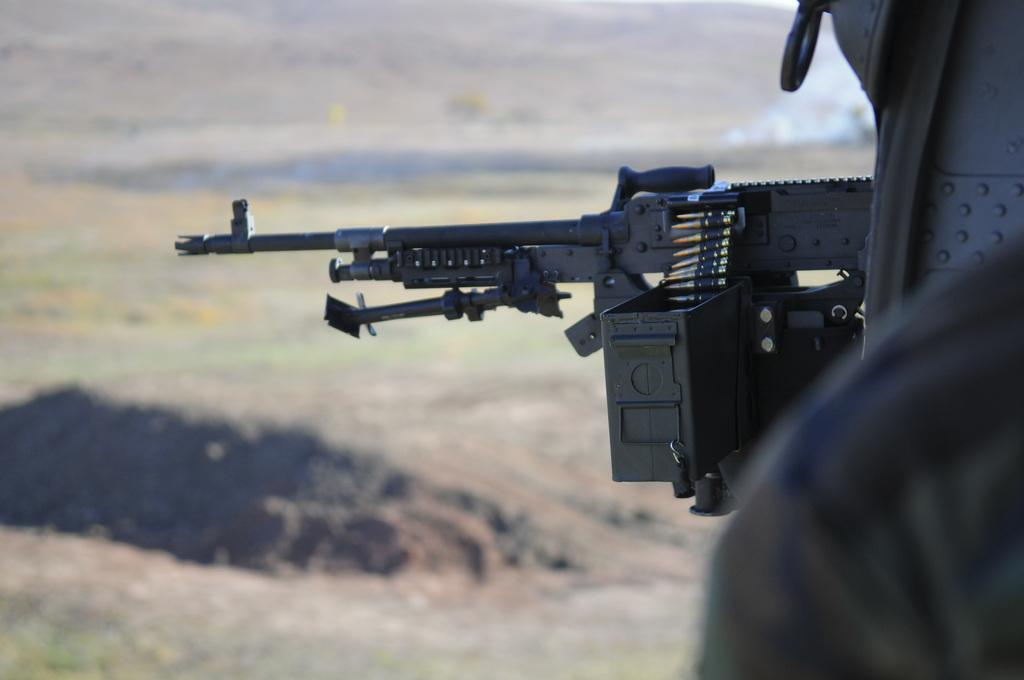Rifle: (179, 200, 865, 511)
